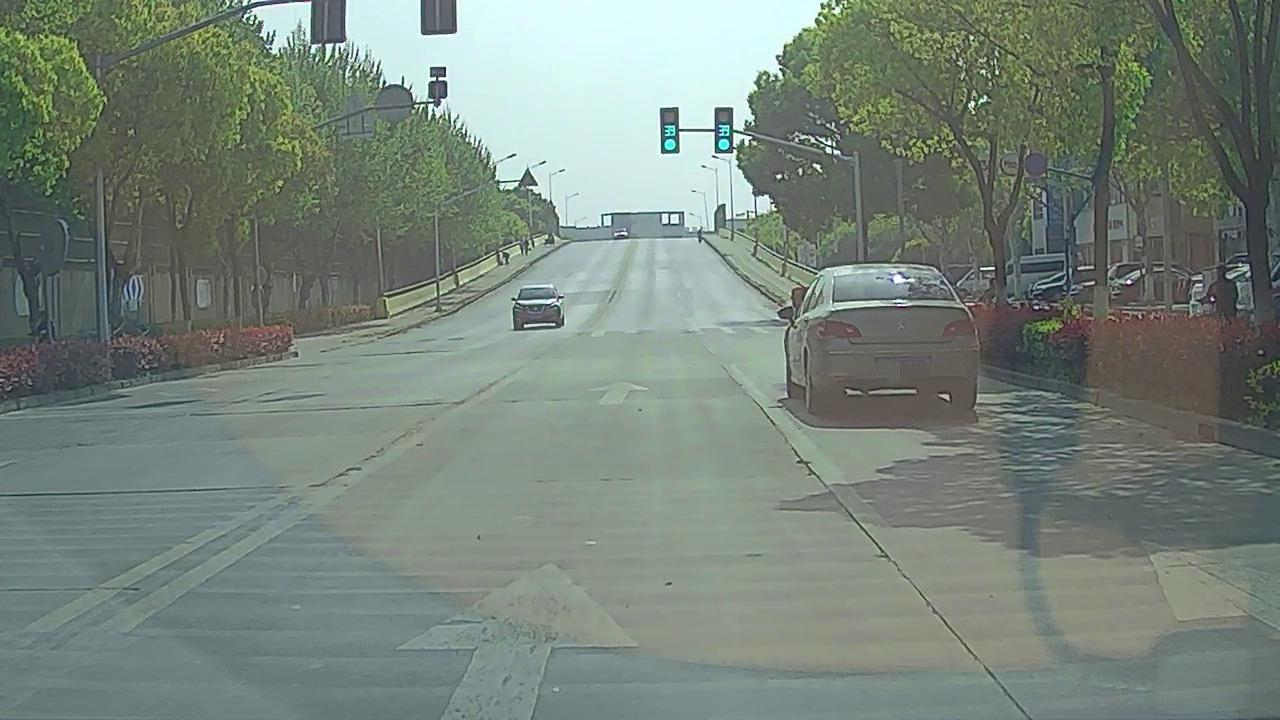traffic_light: (661, 108, 678, 152), (715, 108, 731, 152)
